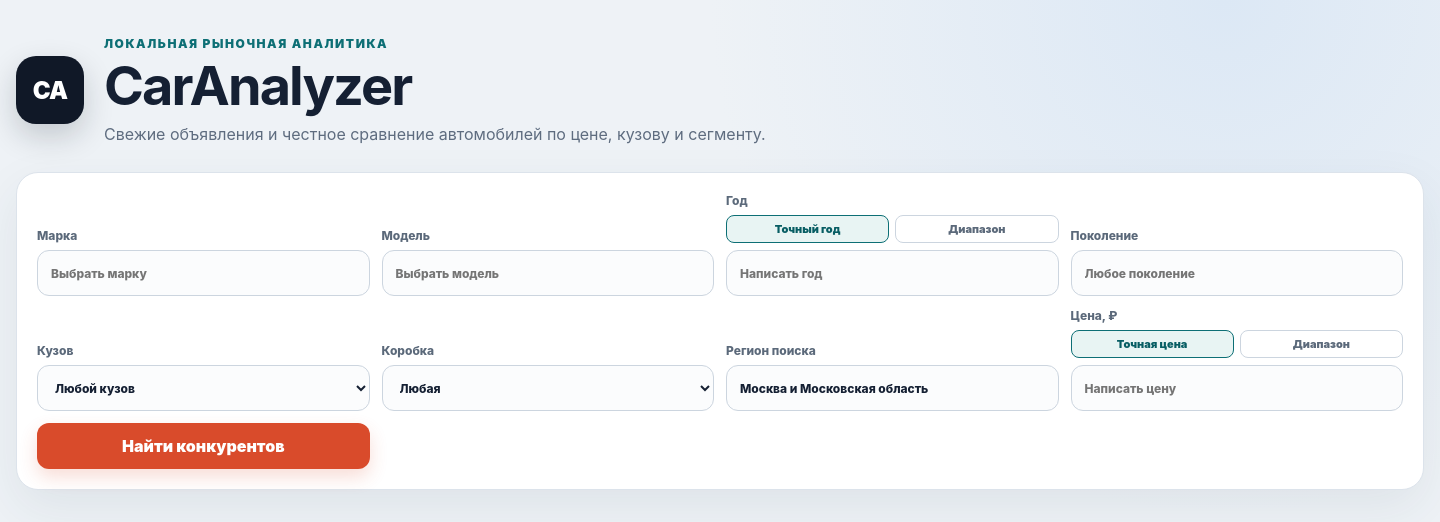
CarAnalyzer form › does not autoselect a generation from a parse error response
The image size is (1440, 522).
Step 1. Type "Example Brand" into the dropdown labelled "Марка" → (203, 273), box [37,250,370,296]
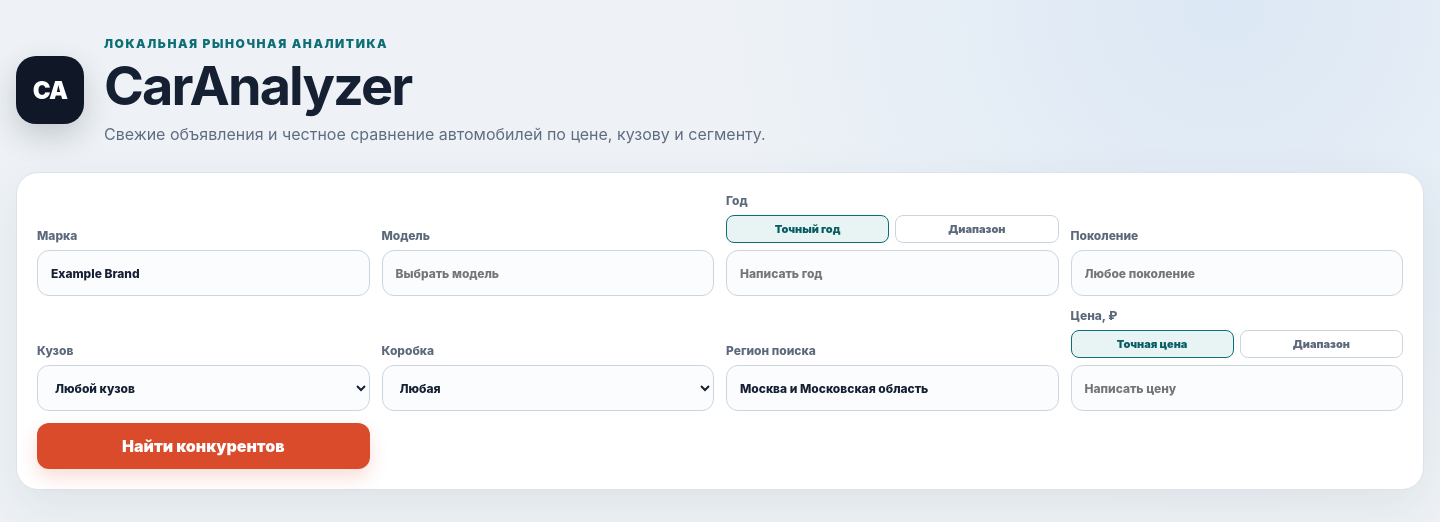
Step 2. Type "Example Model" into the dropdown labelled "Модель" → (548, 273), box [382,250,714,296]
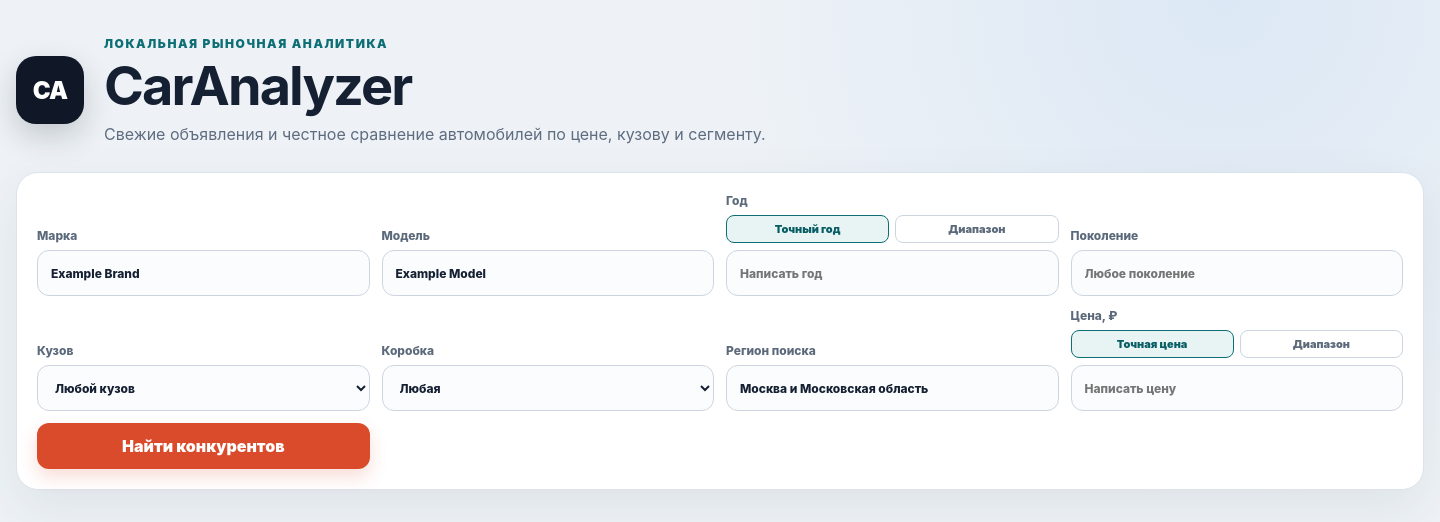
Step 3. Type "2016" into the number field labelled "год" → (892, 273), box [726,250,1058,296]
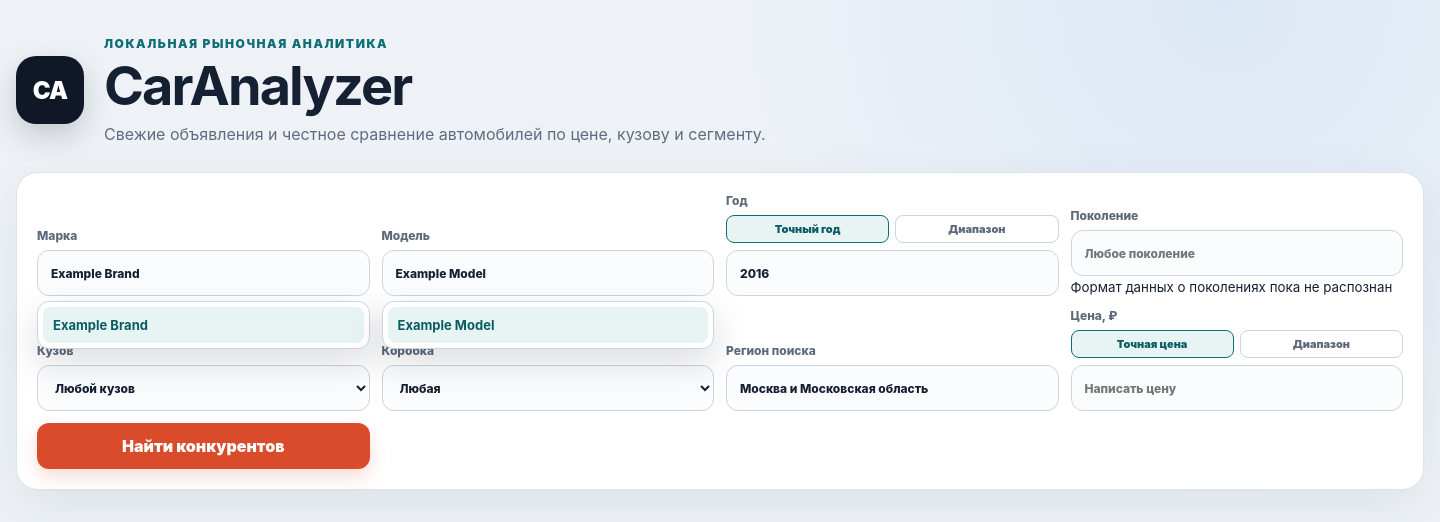
Expected: the dropdown labelled "Поколение" is empty, [1070,230,1403,276]
Result: the text "Формат данных о поколениях пока не распознан" is shown at [1070,279,1392,295]
